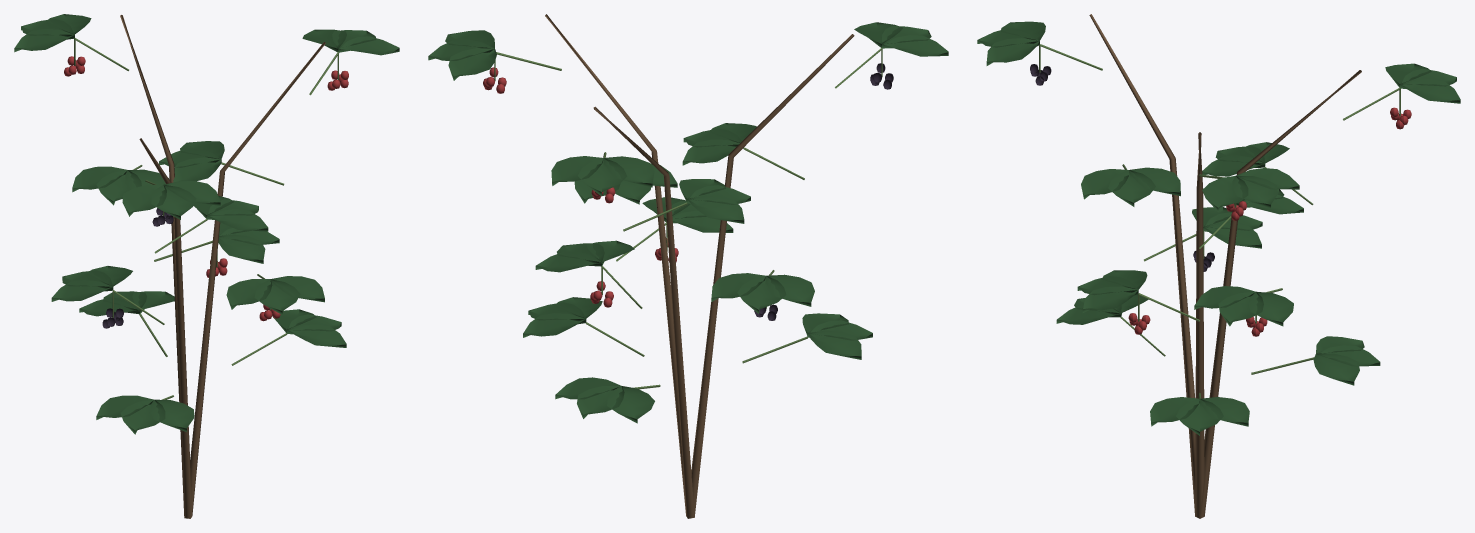
File: mora_de_castilla.glb
The picture shows the model from 3 angles, left to right: view 1: azimuth 30°, elevation 25°; view 2: azimuth 150°, elevation 25°; view 3: azimuth 270°, elevation 25°; orthographic projection. The views are drawn at different scales.
Parts seen in each view (by area): view 1: mora_de_castilla; view 2: mora_de_castilla; view 3: mora_de_castilla.
Boxes of the visible parts, box(x1,y1,x2,y2) form: mora_de_castilla: box(14, 14, 399, 518); mora_de_castilla: box(428, 14, 948, 518); mora_de_castilla: box(977, 14, 1460, 518).
Bounding box in the file's own units: 1.09 × 1.24 × 1.2.
